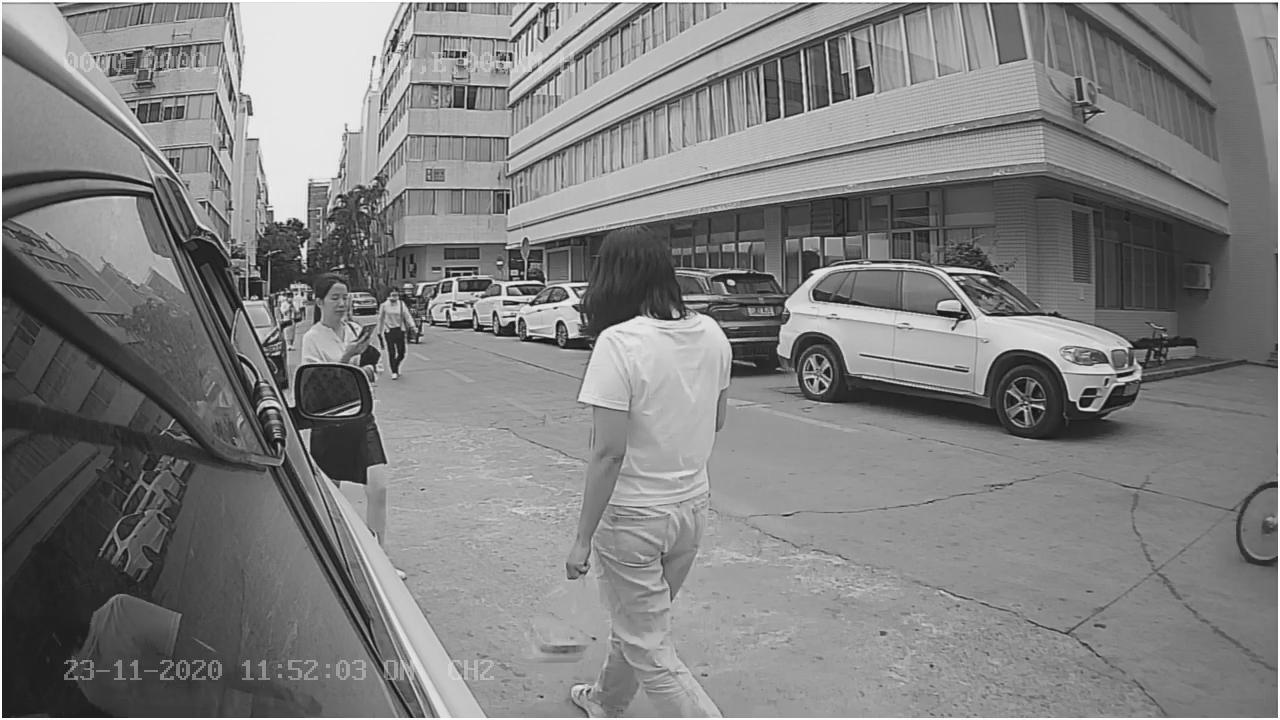person: (569, 213, 732, 459), (300, 263, 388, 368)
